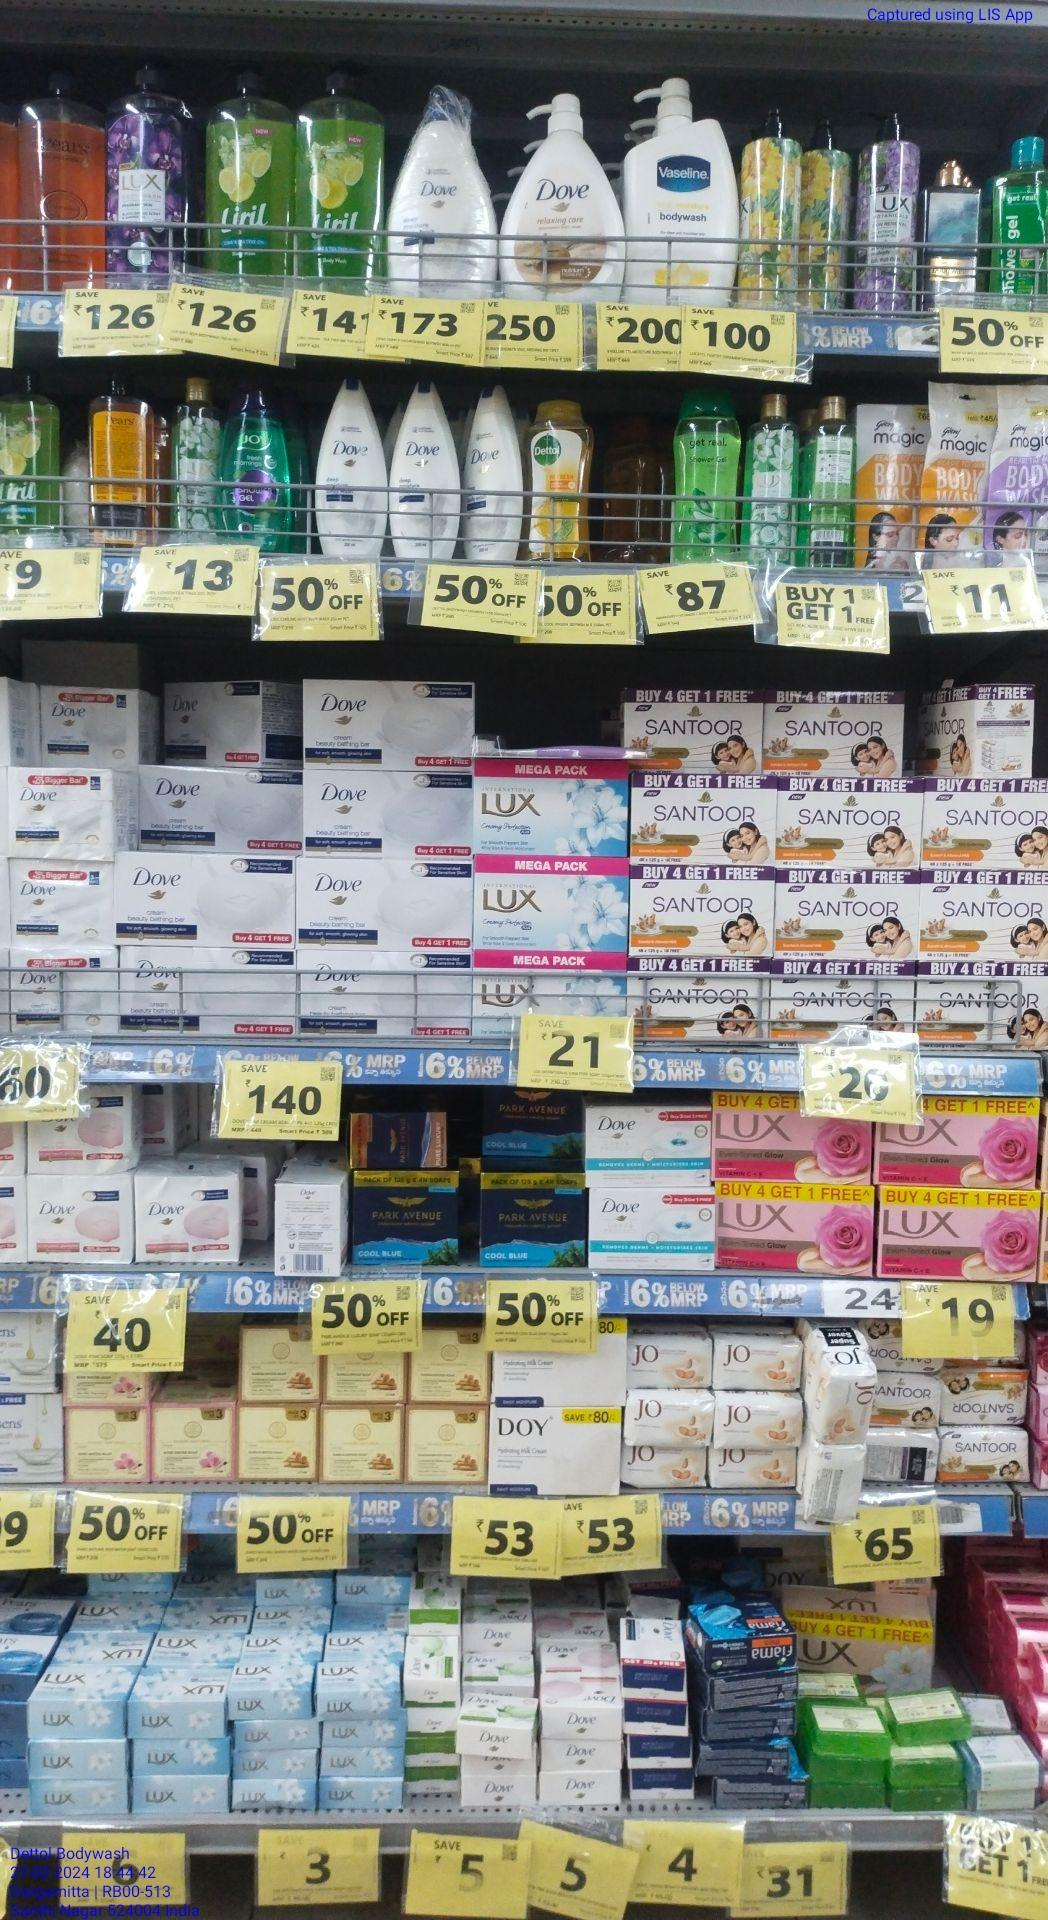Dettol_Bodywash_Refresh: (525, 391, 587, 561)
Dove_Deep_Moisture_Body_Wash_250ML: (319, 378, 387, 559), (394, 378, 457, 564), (461, 383, 520, 561)
Joy_Shower_Gel_Mint_and_Eucalyptus_250ML: (221, 379, 289, 551)
Liril_Lime_and_Tea_Tree_Oil_Body_Wash_250ML: (0, 364, 58, 547)
Lux_Body_Wash_Skin_Detox_Freesia_Scent_and_Alove_Vera_245ML: (741, 394, 795, 569), (173, 374, 218, 542)
